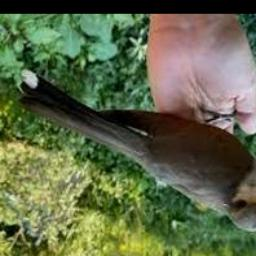Cuckoo: (19, 69, 256, 232)
